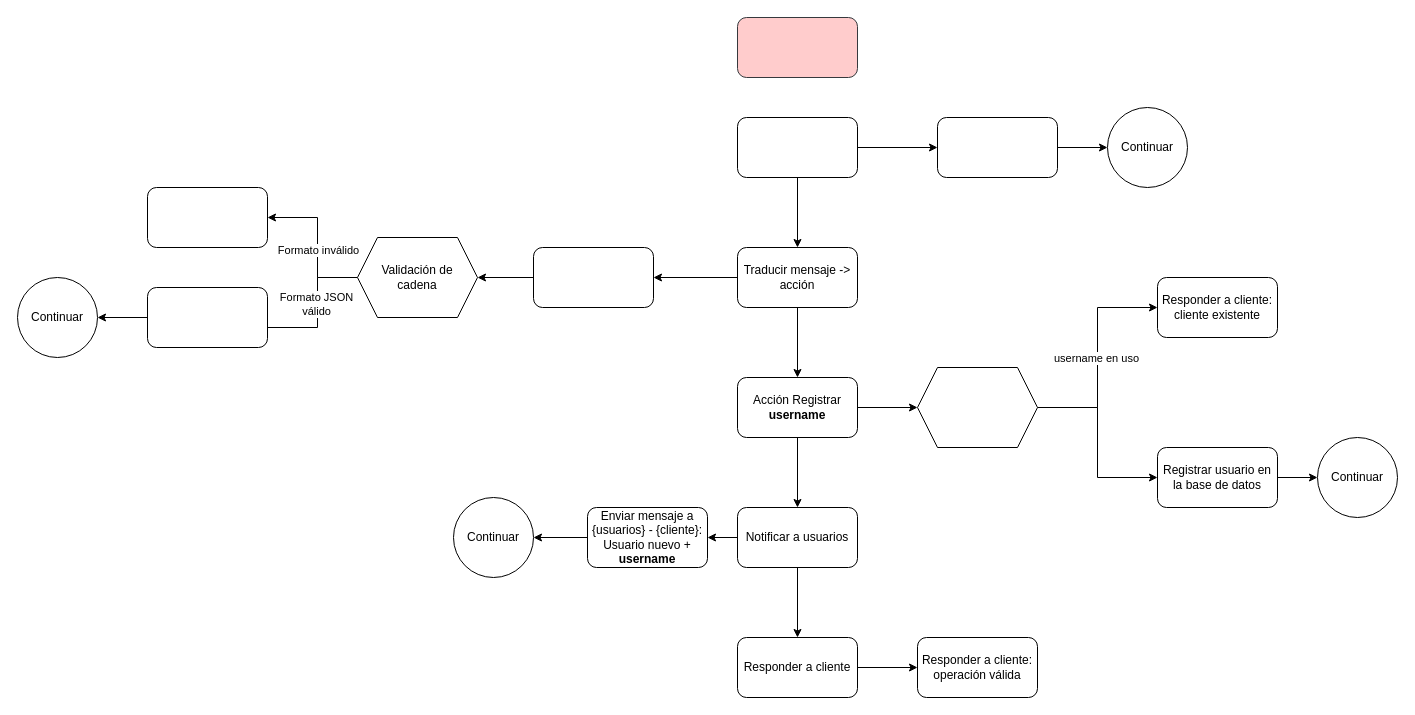
The diagram is 1415 pixels wide and 715 high, and some of its shapes have lost their labels. The centre of each missing label's shape, as x and y in pixels:
Extraer bytes del mensaje: point 997,147
Recibir mensaje por red: point 797,147
Responder a cliente: operación inválida: point 207,217
Servidor: Identificar usuario con username: point 797,47
Traducir bytes a cadena: point 593,277
Traducir JSON a acción: Identificar usuario con username: point 207,317
Validación de username: point 977,407
